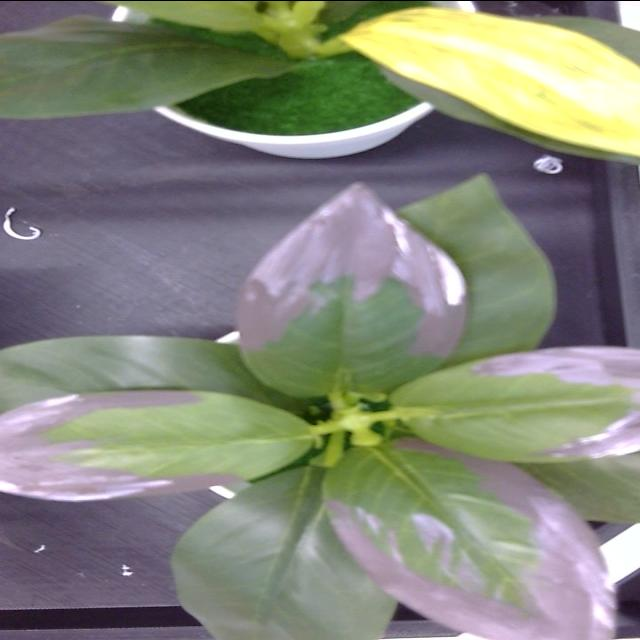Brown: (323, 439, 614, 640), (238, 184, 468, 394), (0, 389, 360, 499)
Green: (172, 466, 395, 640), (398, 174, 555, 368), (389, 351, 639, 460), (0, 335, 293, 412), (518, 452, 639, 524)
